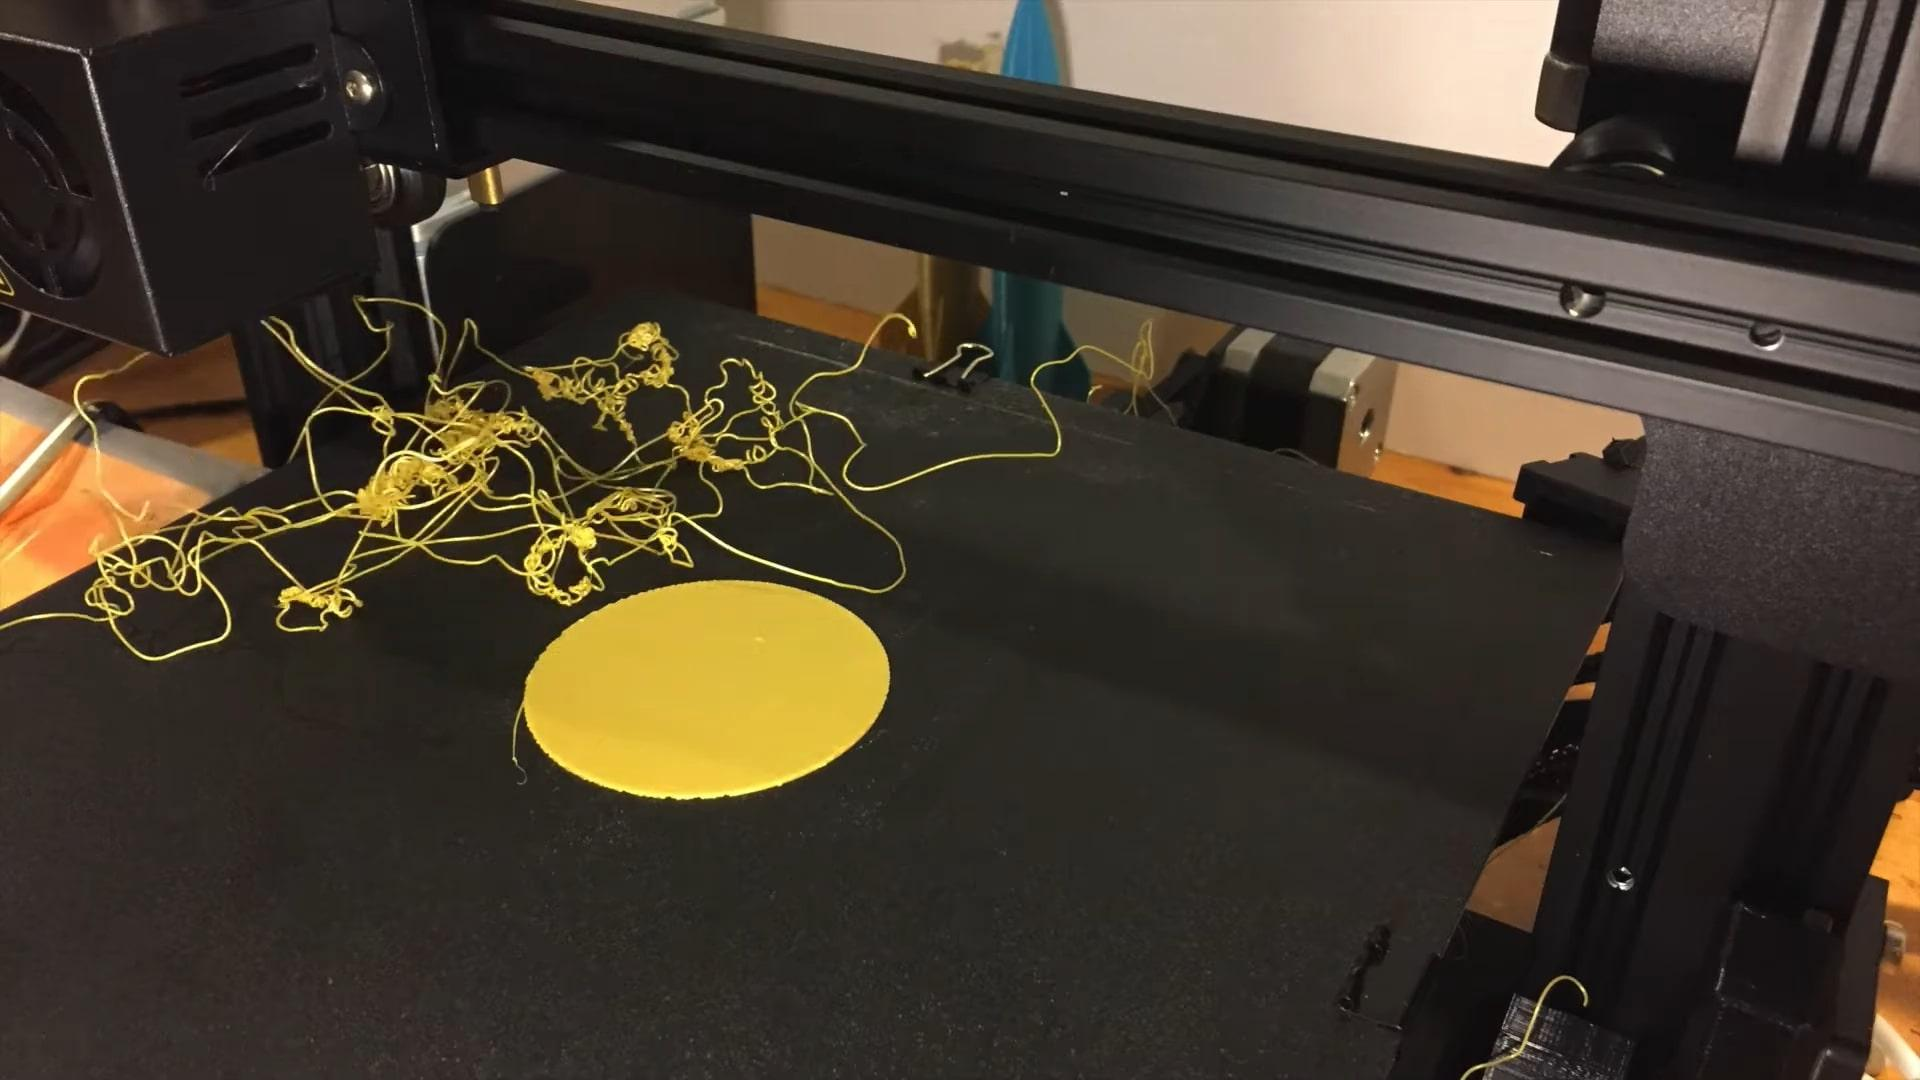Printing-Artifact: (45, 306, 812, 658)
